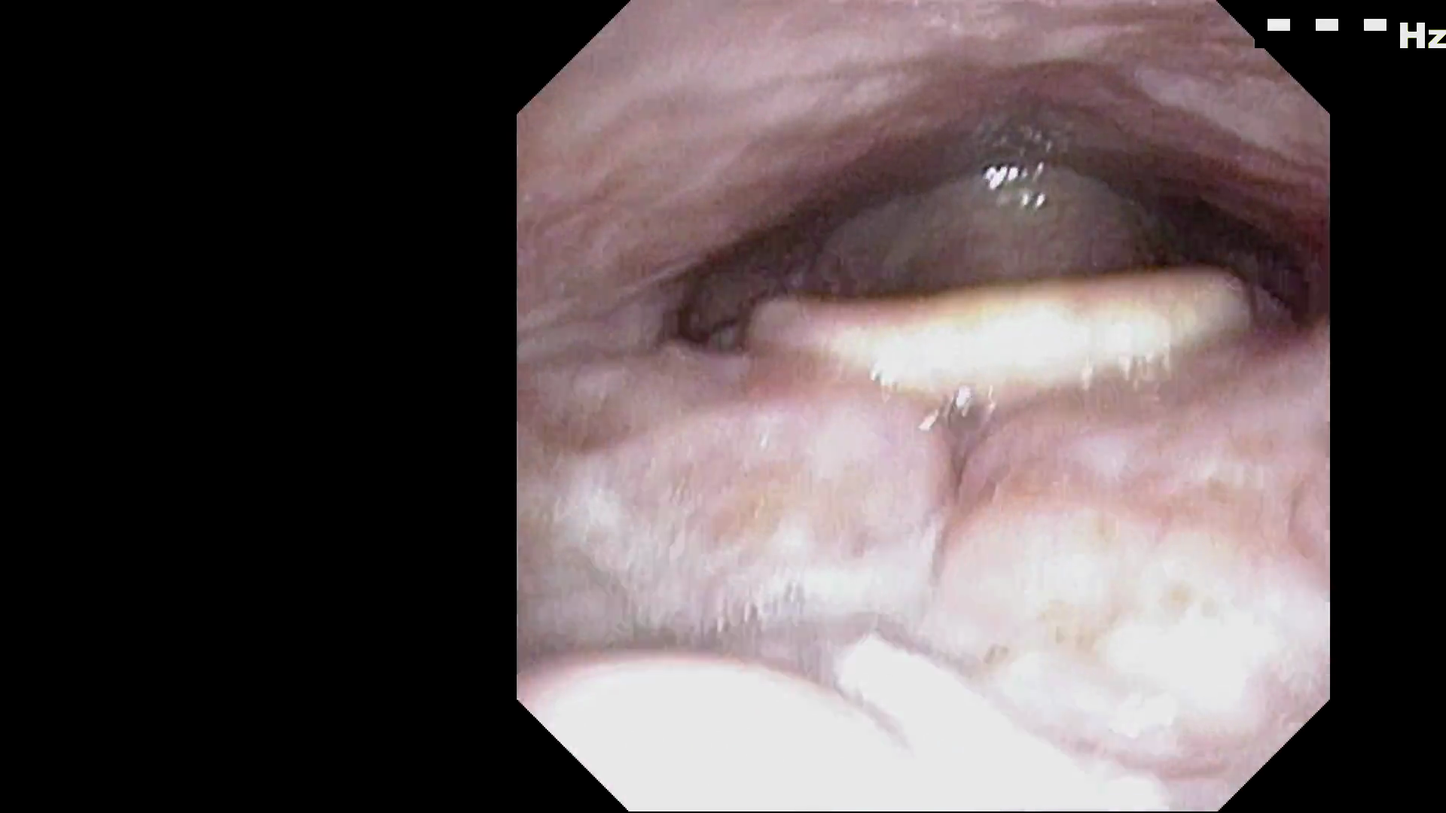epiglottis: (792, 231, 1188, 361)
